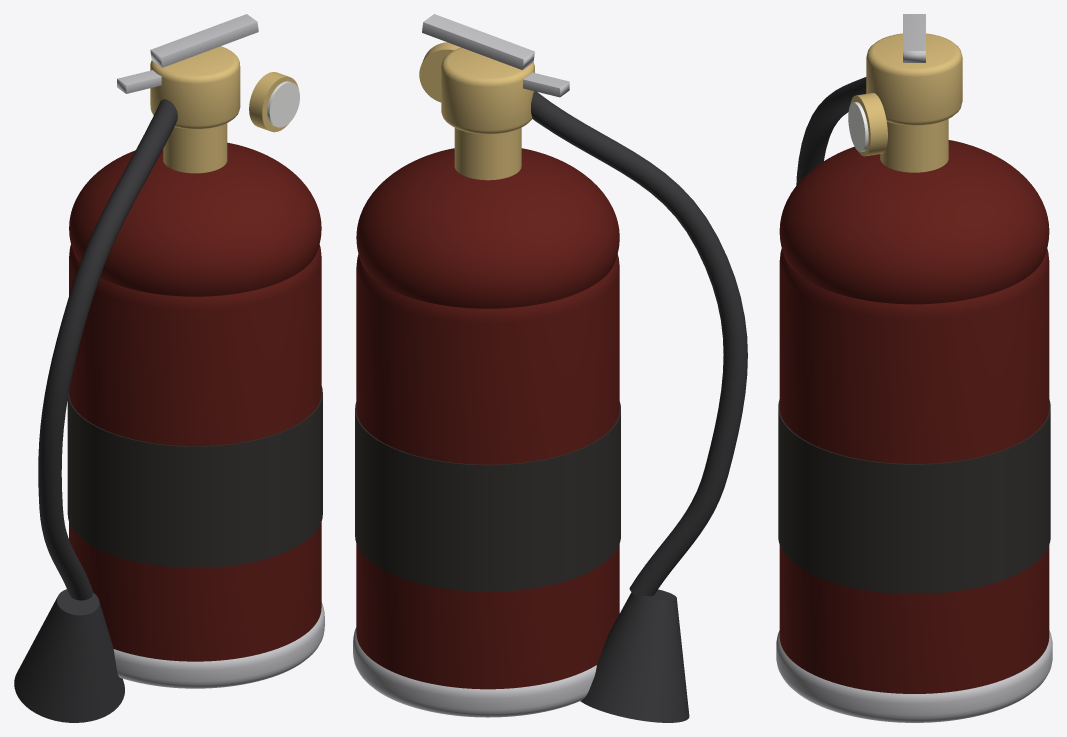
The model's file is extinguisher.glb.
3 renders of one model, left to right at view 1: azimuth 30°, elevation 25°; view 2: azimuth 150°, elevation 25°; view 3: azimuth 270°, elevation 25°, orthographic. The views are drawn at different scales.
Visible parts, largest first — view 1: Body, Label, Dome, Hose, Horn, Foot, Valve, Neck, Lever, Gauge, GaugeFace, Grip; view 2: Body, Label, Dome, Hose, Horn, Foot, Valve, Neck, Lever, Gauge, Grip; view 3: Body, Label, Dome, Foot, Valve, Neck, Hose, Gauge, Lever, GaugeFace.
Part boxes in pixels (x1=…): Body: x1=69, y1=244, x2=321, y2=661; Label: x1=67, y1=386, x2=322, y2=567; Dome: x1=69, y1=142, x2=321, y2=296; Hose: x1=38, y1=99, x2=177, y2=600; Horn: x1=14, y1=589, x2=124, y2=722; Foot: x1=113, y1=602, x2=324, y2=688; Valve: x1=150, y1=46, x2=240, y2=129; Neck: x1=163, y1=123, x2=227, y2=173; Lever: x1=150, y1=14, x2=258, y2=67; Gauge: x1=249, y1=72, x2=298, y2=132; GaugeFace: x1=267, y1=81, x2=299, y2=127; Grip: x1=117, y1=70, x2=161, y2=93; Body: x1=356, y1=254, x2=619, y2=689; Label: x1=355, y1=401, x2=620, y2=591; Dome: x1=356, y1=148, x2=619, y2=308; Hose: x1=531, y1=91, x2=747, y2=597; Horn: x1=580, y1=589, x2=689, y2=722; Foot: x1=353, y1=627, x2=596, y2=717; Valve: x1=441, y1=47, x2=534, y2=134; Neck: x1=454, y1=128, x2=521, y2=180; Lever: x1=422, y1=14, x2=534, y2=69; Gauge: x1=419, y1=42, x2=460, y2=102; Grip: x1=523, y1=72, x2=569, y2=97; Body: x1=779, y1=248, x2=1049, y2=693; Label: x1=778, y1=399, x2=1050, y2=593; Dome: x1=779, y1=140, x2=1049, y2=304; Foot: x1=776, y1=630, x2=1052, y2=722; Valve: x1=866, y1=33, x2=962, y2=125; Neck: x1=880, y1=119, x2=948, y2=172; Hose: x1=796, y1=77, x2=866, y2=185; Gauge: x1=850, y1=93, x2=887, y2=156; Lever: x1=903, y1=14, x2=925, y2=62; GaugeFace: x1=848, y1=102, x2=868, y2=152.
Bounding box in the file's own units: 0.337 × 0.6516 × 0.242.
